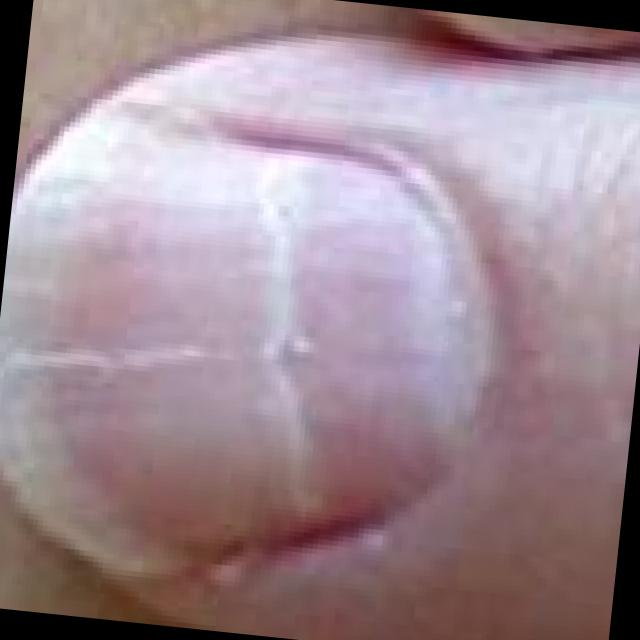Nail: (0, 124, 476, 575)
